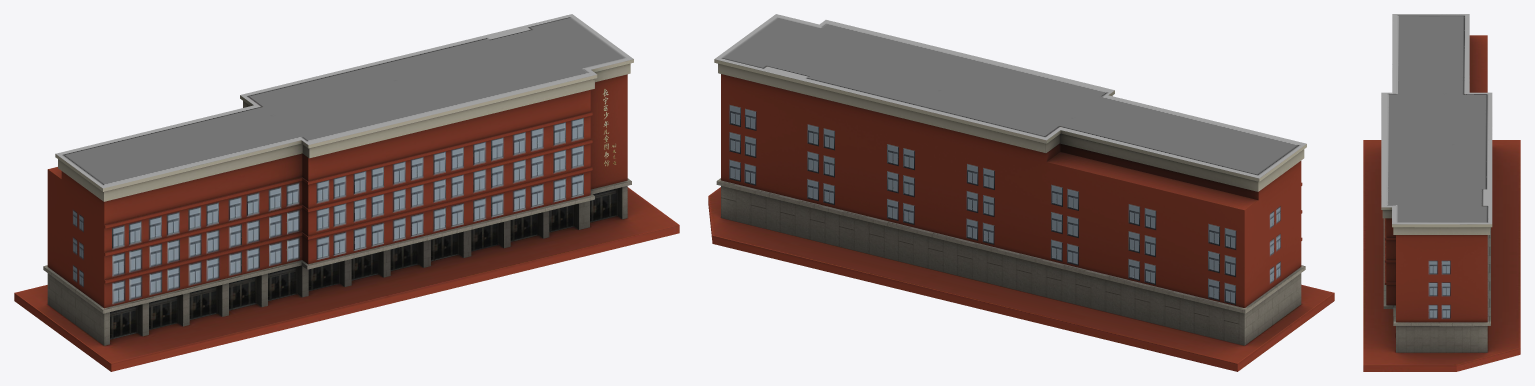
The model's file is ettsg.gltf.
The picture shows the model from 3 angles, left to right: view 1: azimuth 30°, elevation 25°; view 2: azimuth 150°, elevation 25°; view 3: azimuth 270°, elevation 25°; orthographic projection. The views are drawn at different scales.
Visible parts, largest first — view 1: group1 polySurface7, pCube1 group1; view 2: group1 polySurface7, pCube1 group1; view 3: group1 polySurface7, pCube1 group1.
Part boxes in pixels (box(x1,y1,x2,y2)): group1 polySurface7: box(43, 14, 633, 345); pCube1 group1: box(14, 187, 679, 371); group1 polySurface7: box(714, 14, 1306, 345); pCube1 group1: box(708, 187, 1334, 371); group1 polySurface7: box(1381, 14, 1492, 352); pCube1 group1: box(1363, 140, 1520, 371).
Size of the model in its own units: 16.09 by 4.54 by 4.75.
Materials: 1 (1 with a texture image).
